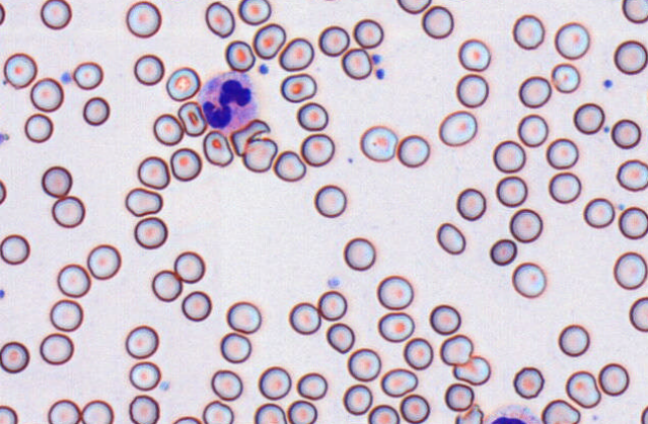GRAN: (196, 70, 259, 133)
PLT: (325, 273, 341, 290), (373, 66, 387, 81), (369, 52, 382, 65), (59, 71, 73, 83), (601, 78, 614, 89), (258, 64, 269, 75), (159, 381, 170, 392)
RBC: (438, 109, 477, 146), (359, 125, 397, 162), (565, 370, 601, 408), (125, 0, 161, 38), (554, 21, 590, 59), (511, 261, 546, 298), (613, 251, 647, 289), (242, 136, 277, 172), (86, 243, 121, 279), (3, 52, 37, 89), (376, 275, 413, 309), (165, 66, 200, 101), (278, 37, 314, 71), (613, 39, 647, 75), (252, 22, 285, 59), (56, 263, 91, 297), (257, 365, 291, 400), (29, 77, 63, 112), (202, 129, 233, 167), (347, 347, 381, 381), (39, 332, 74, 365), (455, 73, 488, 108), (226, 300, 261, 333), (377, 311, 414, 342), (204, 1, 235, 38), (452, 355, 490, 385), (169, 147, 202, 181), (492, 139, 525, 173), (396, 134, 430, 167), (509, 208, 542, 242), (300, 133, 334, 166), (137, 155, 170, 189), (49, 298, 83, 331), (125, 324, 158, 358), (51, 195, 85, 228), (512, 14, 544, 49), (380, 367, 417, 397), (124, 187, 162, 216), (273, 149, 306, 182), (288, 301, 321, 334), (518, 75, 551, 108), (134, 216, 167, 249), (457, 38, 490, 71), (313, 184, 346, 217), (343, 236, 375, 270), (421, 5, 453, 39), (280, 72, 316, 102), (439, 333, 472, 365), (173, 250, 205, 283), (548, 171, 581, 203), (545, 137, 578, 169), (517, 113, 548, 147), (598, 362, 629, 396), (340, 47, 372, 79), (512, 366, 544, 398), (495, 175, 527, 207), (219, 331, 251, 363), (573, 102, 605, 134), (151, 269, 182, 302), (402, 337, 433, 370), (616, 158, 647, 191), (558, 323, 589, 356), (540, 398, 580, 423), (224, 40, 255, 72), (583, 197, 615, 228), (210, 369, 242, 400), (41, 165, 72, 197), (133, 53, 164, 85), (153, 113, 183, 146), (128, 361, 161, 391), (456, 187, 486, 220), (318, 25, 349, 56), (610, 118, 641, 149), (342, 383, 372, 415), (296, 101, 328, 131), (429, 304, 461, 334), (618, 206, 647, 239), (399, 393, 430, 423), (352, 18, 383, 48), (0, 233, 30, 264), (550, 62, 580, 93), (181, 290, 211, 321), (0, 341, 29, 373), (436, 222, 465, 254), (317, 290, 347, 320), (128, 394, 159, 423), (40, 0, 71, 29), (72, 61, 103, 90), (24, 112, 53, 143), (444, 382, 474, 411), (326, 322, 354, 353), (296, 372, 327, 400), (237, 0, 271, 25), (82, 96, 110, 126), (47, 399, 80, 423), (81, 399, 114, 423), (489, 238, 517, 265), (286, 399, 317, 423), (202, 400, 233, 423), (253, 402, 286, 423), (629, 296, 647, 332), (367, 404, 399, 423), (622, 0, 648, 23), (454, 404, 483, 423), (396, 0, 431, 14), (0, 405, 18, 423), (171, 415, 202, 423), (0, 178, 6, 204), (640, 405, 648, 423), (0, 2, 5, 25), (162, 0, 193, 3)
Schistocyte: (229, 118, 271, 157), (177, 101, 206, 137)
